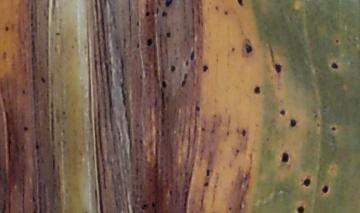tarspot: (302, 176, 312, 187), (244, 42, 253, 54), (273, 62, 282, 74), (168, 63, 177, 73), (182, 73, 188, 88), (281, 152, 289, 163), (321, 184, 329, 195), (253, 86, 262, 95), (289, 118, 297, 128), (2, 24, 10, 33), (161, 79, 168, 89), (194, 104, 201, 114), (203, 169, 211, 177), (331, 62, 339, 70), (40, 75, 47, 84), (146, 38, 153, 47), (164, 1, 173, 8), (278, 110, 287, 117), (203, 63, 209, 73), (241, 128, 247, 138), (165, 31, 172, 39), (161, 10, 168, 18), (189, 51, 196, 59), (333, 37, 340, 45), (297, 204, 303, 213), (22, 125, 29, 132), (202, 181, 209, 188), (237, 1, 244, 8), (200, 125, 207, 132), (214, 4, 220, 12), (224, 8, 229, 17), (144, 11, 151, 17), (184, 59, 189, 67), (135, 41, 140, 49), (34, 144, 40, 150), (136, 19, 140, 27), (152, 202, 157, 208), (141, 204, 147, 209), (331, 126, 336, 132), (230, 46, 235, 52), (22, 89, 26, 95), (236, 148, 240, 154)
